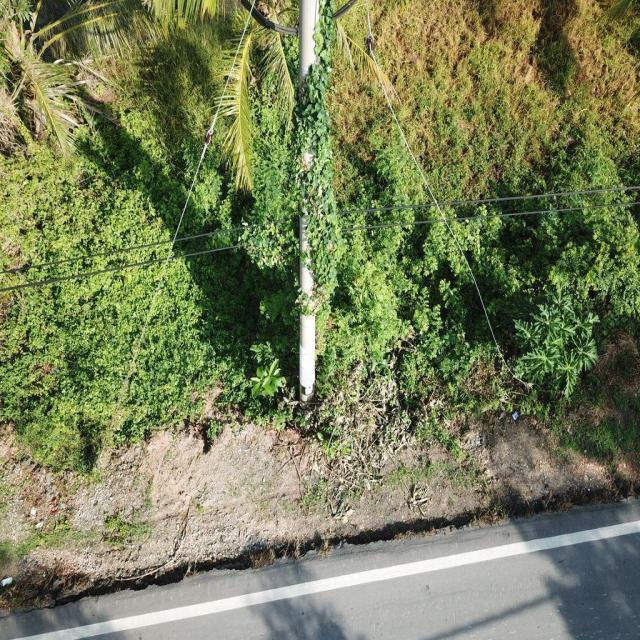critical vegetation: (280, 25, 345, 333)
